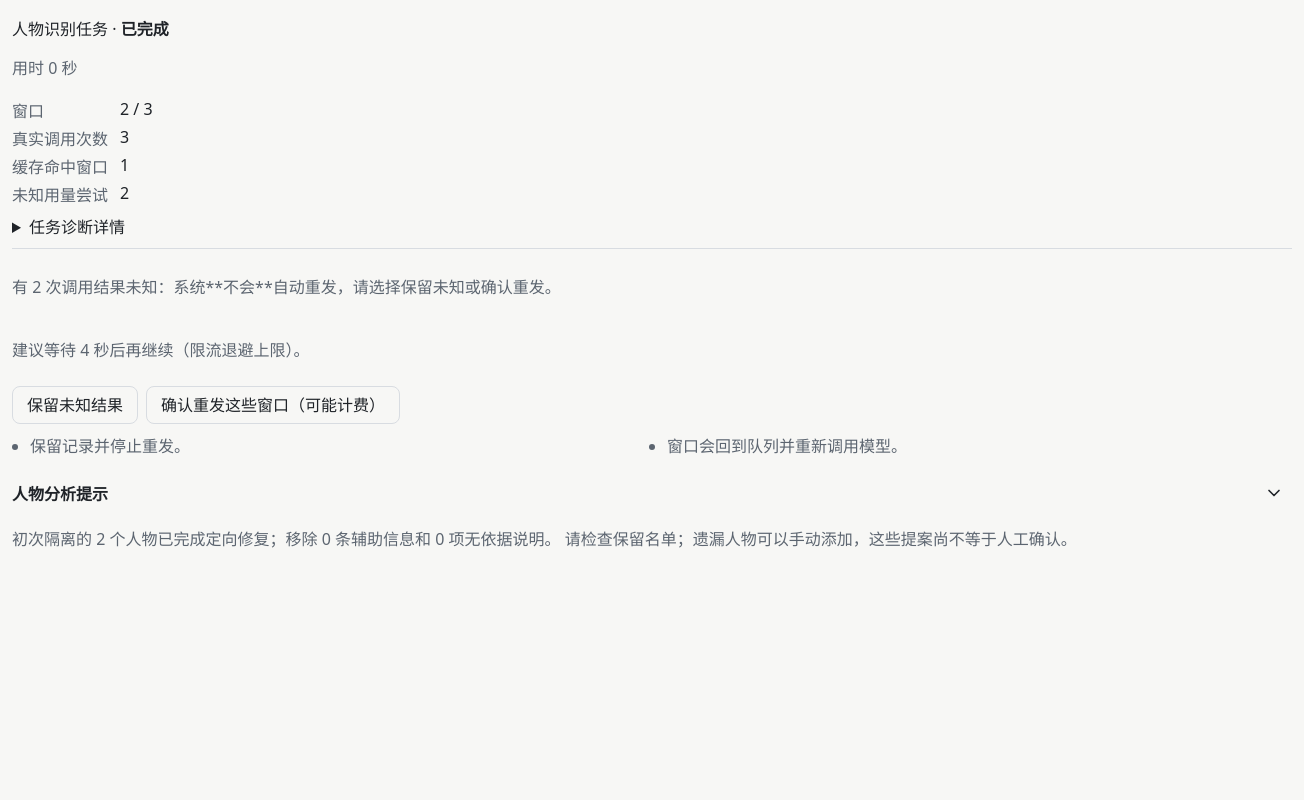
Scenario: JobPanel › 区分初次隔离记录与已经完成的定向修复
Expected: the text "初次隔离的 2 个人物已完成定向修复；移除 0 条辅助信息和 0 项无依据说明。 请检查保留名单；遗漏人物可以手动添加，这些提案尚不等于人工确认。" is shown, [12, 528, 1077, 550]
Click the button named "展开人物分析提示" at x=1274, y=493, box [1256, 475, 1292, 511]
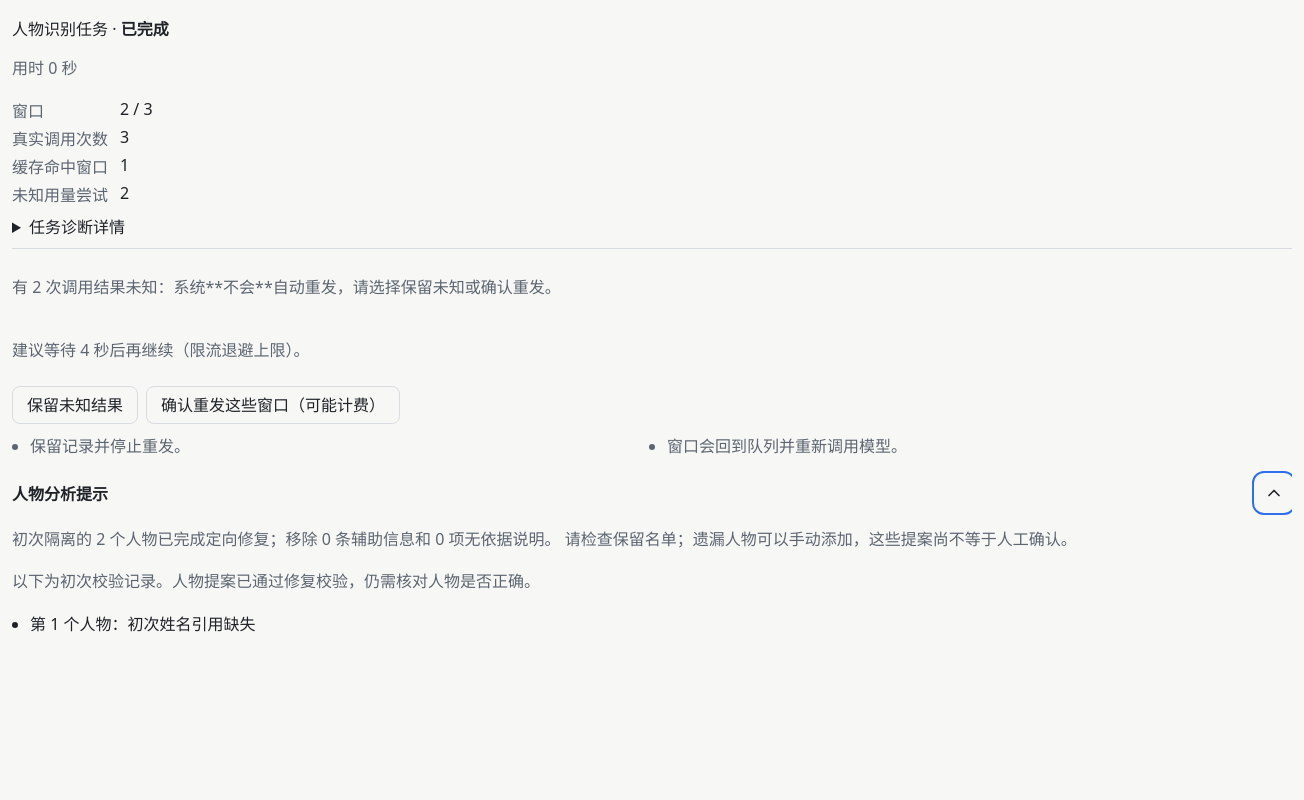
Expected: the text "以下为初次校验记录。人物提案已通过修复校验，仍需核对人物是否正确。" is shown, [12, 570, 540, 592]
